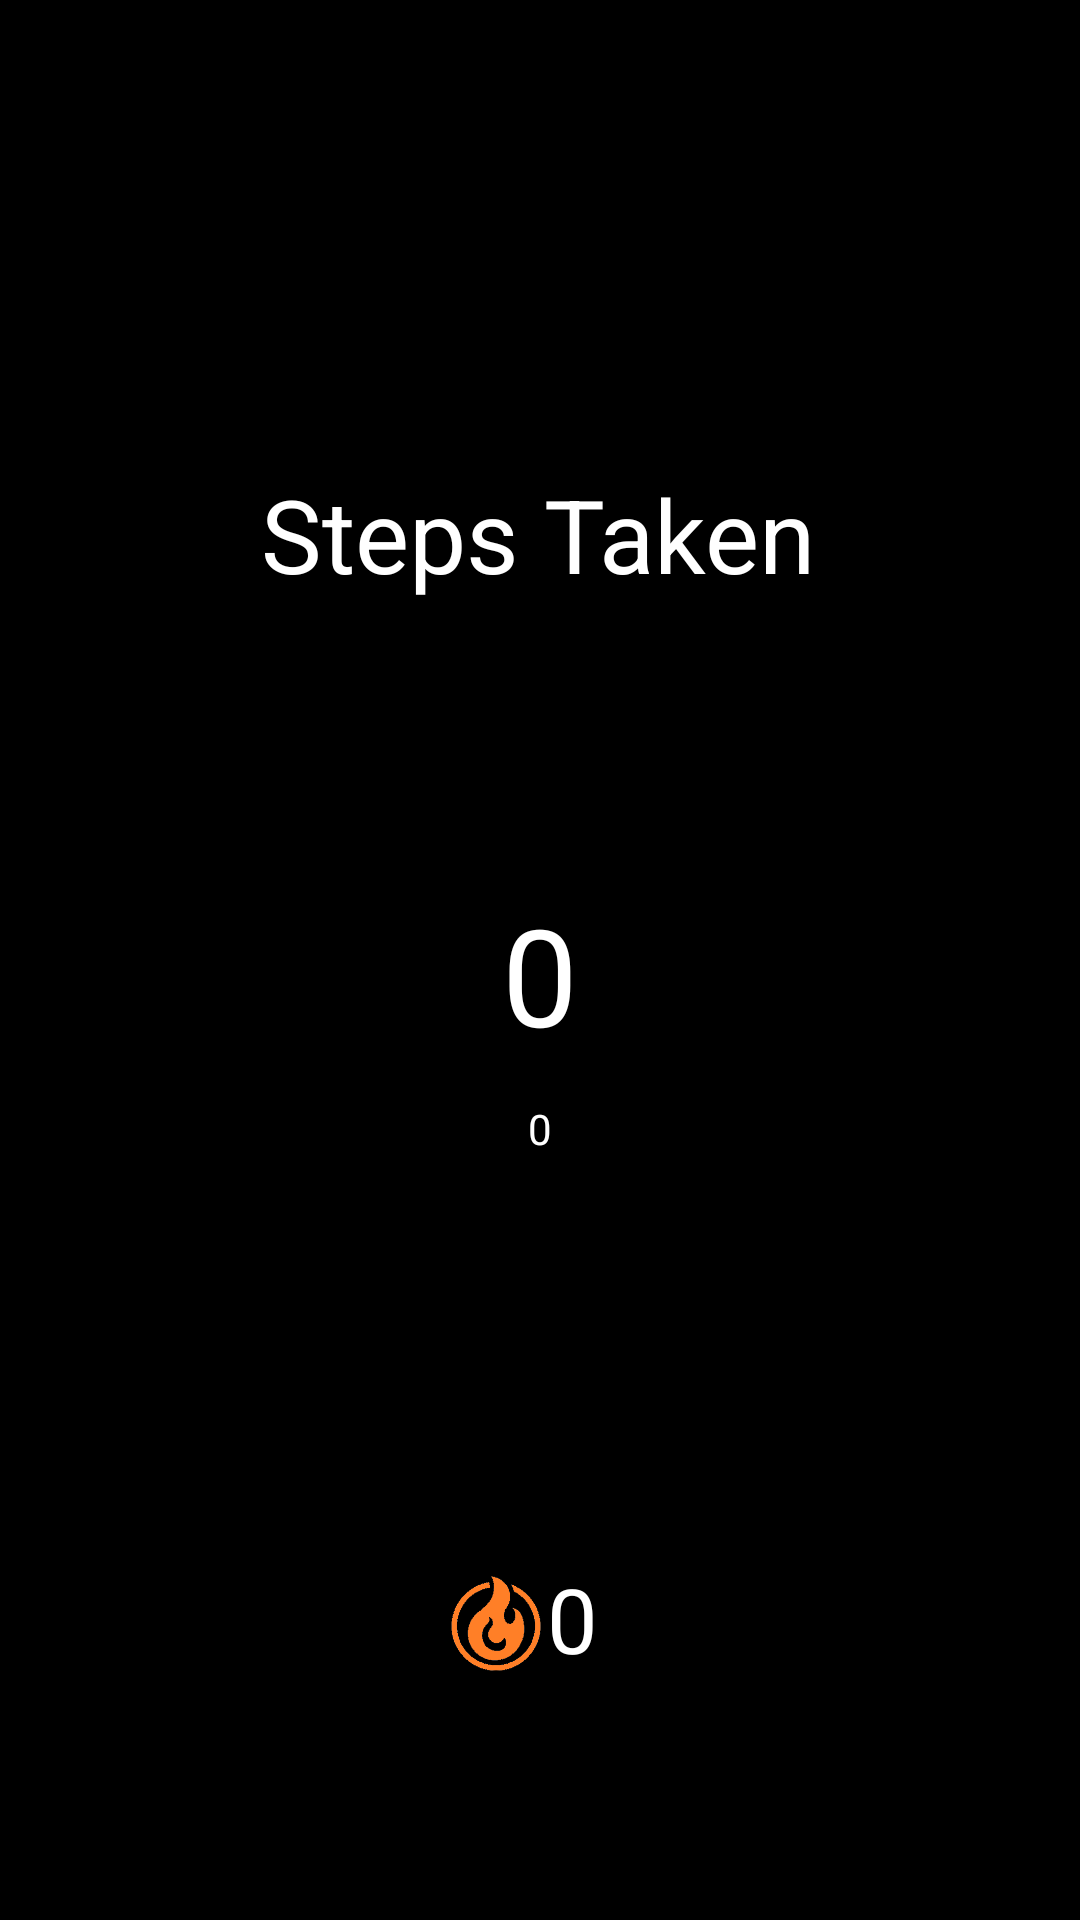

Icons on this 1080*1920 Android screen, each with its box as [x1, y1, x2, y2]:
cal: [451, 1576, 541, 1671]
